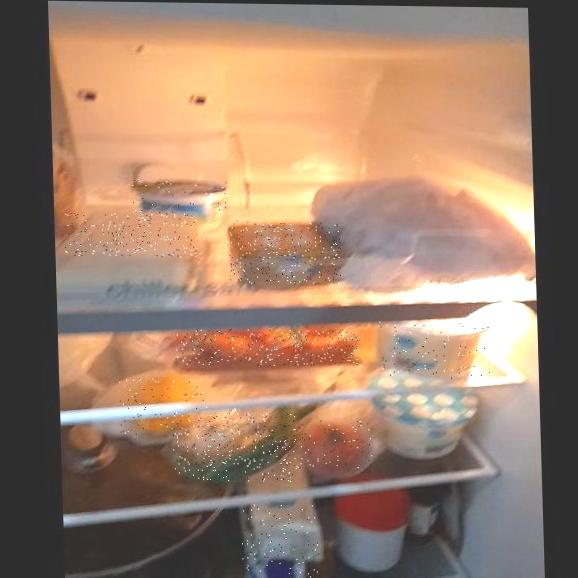butter: (228, 220, 344, 285)
carrot: (175, 328, 361, 367)
cheese: (64, 212, 198, 258)
green chilies: (172, 412, 298, 482)
lemon: (119, 378, 208, 436)
milk: (241, 503, 320, 578)
tomato: (295, 420, 374, 470)
yoghurt: (372, 379, 477, 456), (377, 322, 490, 379), (132, 179, 231, 214)
